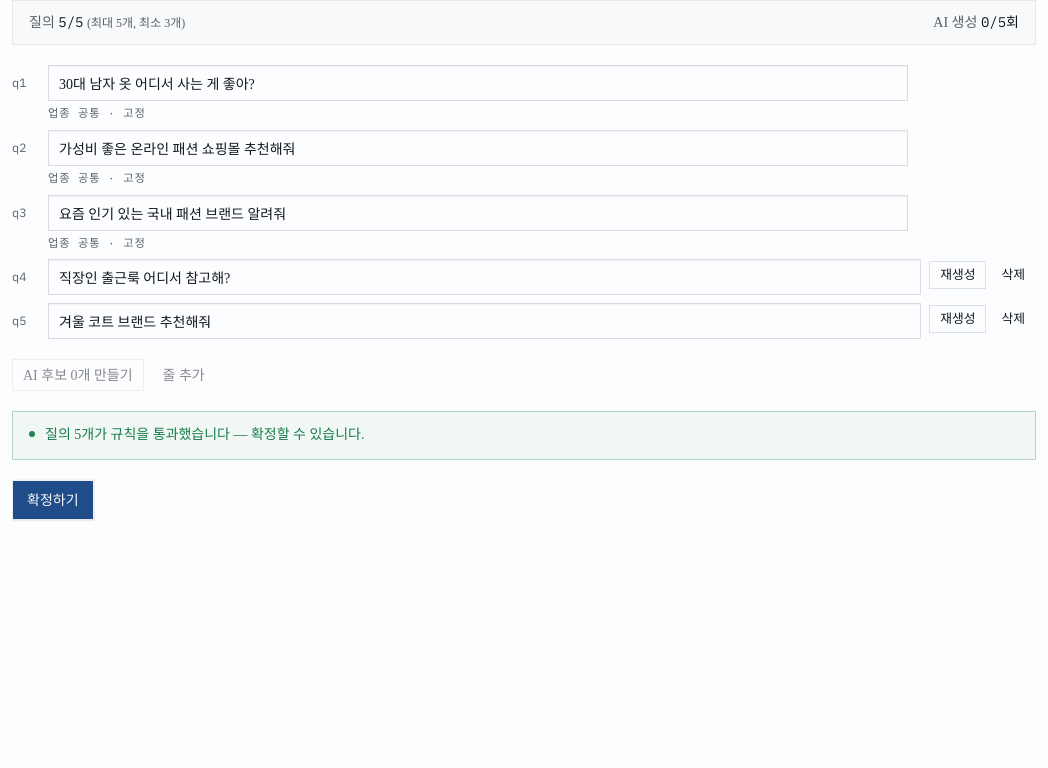
QueryEditor — 실시간 검증 › 수정하면 검증이 즉시 다시 돈다
Replace the text in the field named "질의 5" with "29CM 말고 뭐 있어?" at x=485, y=322, box x1=48 y1=304 x2=921 y2=340
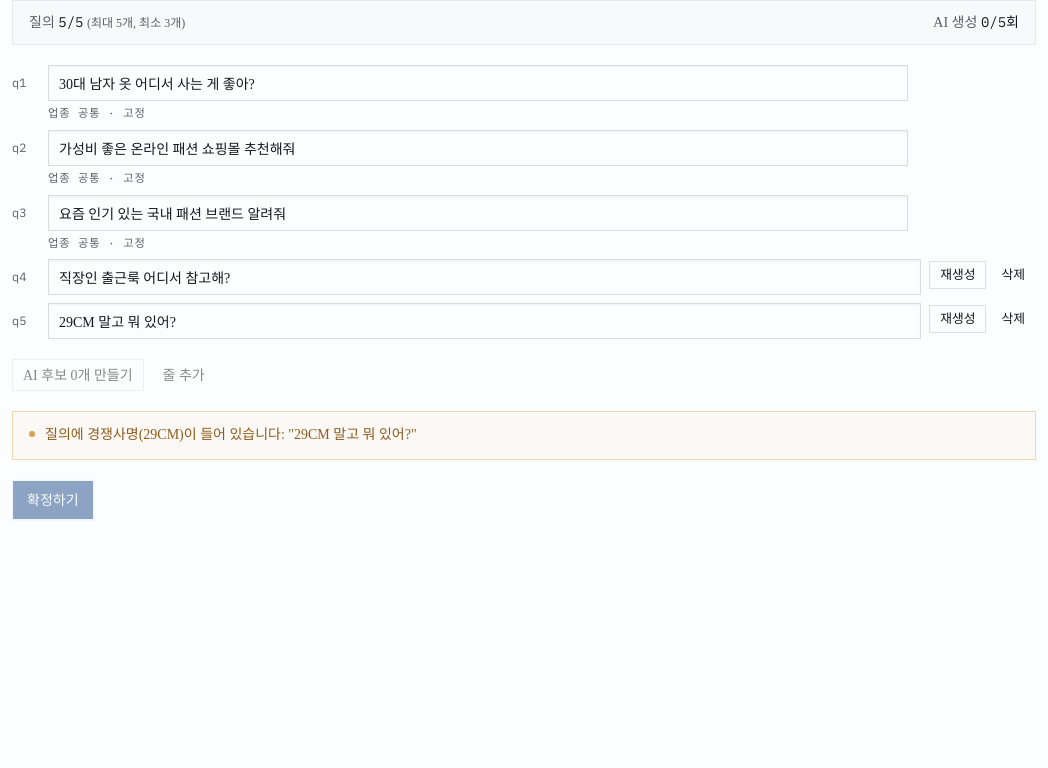
Result: the message shows "경쟁사명" at x1=45 y1=428 x2=417 y2=442
Result: the button "확정하기" is disabled at x1=12 y1=480 x2=94 y2=520
